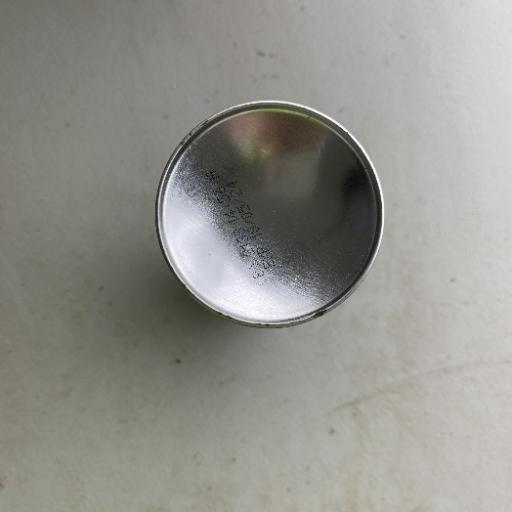Metal: (151, 97, 387, 330)
